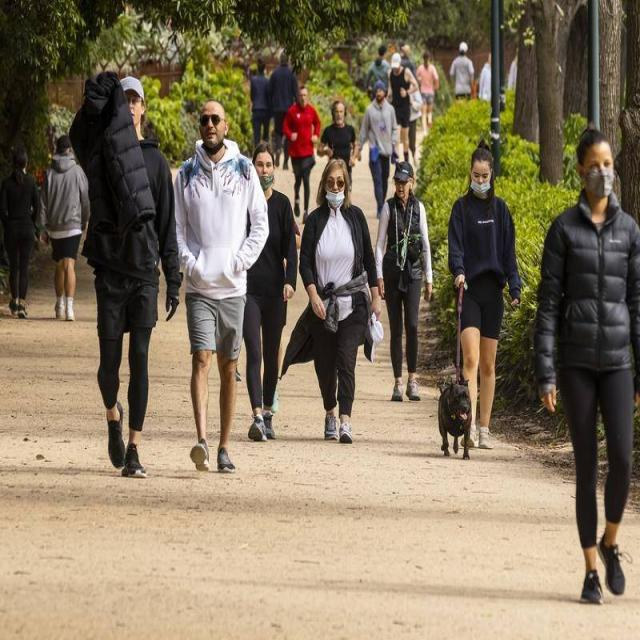Person: (534, 126, 640, 603), (71, 70, 178, 478), (174, 100, 268, 472), (300, 158, 380, 444), (447, 139, 521, 448), (242, 144, 297, 444), (376, 162, 434, 402), (42, 133, 89, 322), (6, 148, 41, 318), (358, 80, 400, 218), (282, 86, 321, 223), (385, 53, 419, 174), (317, 100, 356, 182), (270, 48, 297, 166), (413, 52, 442, 130), (249, 57, 272, 148), (449, 41, 476, 102), (366, 45, 393, 95)
